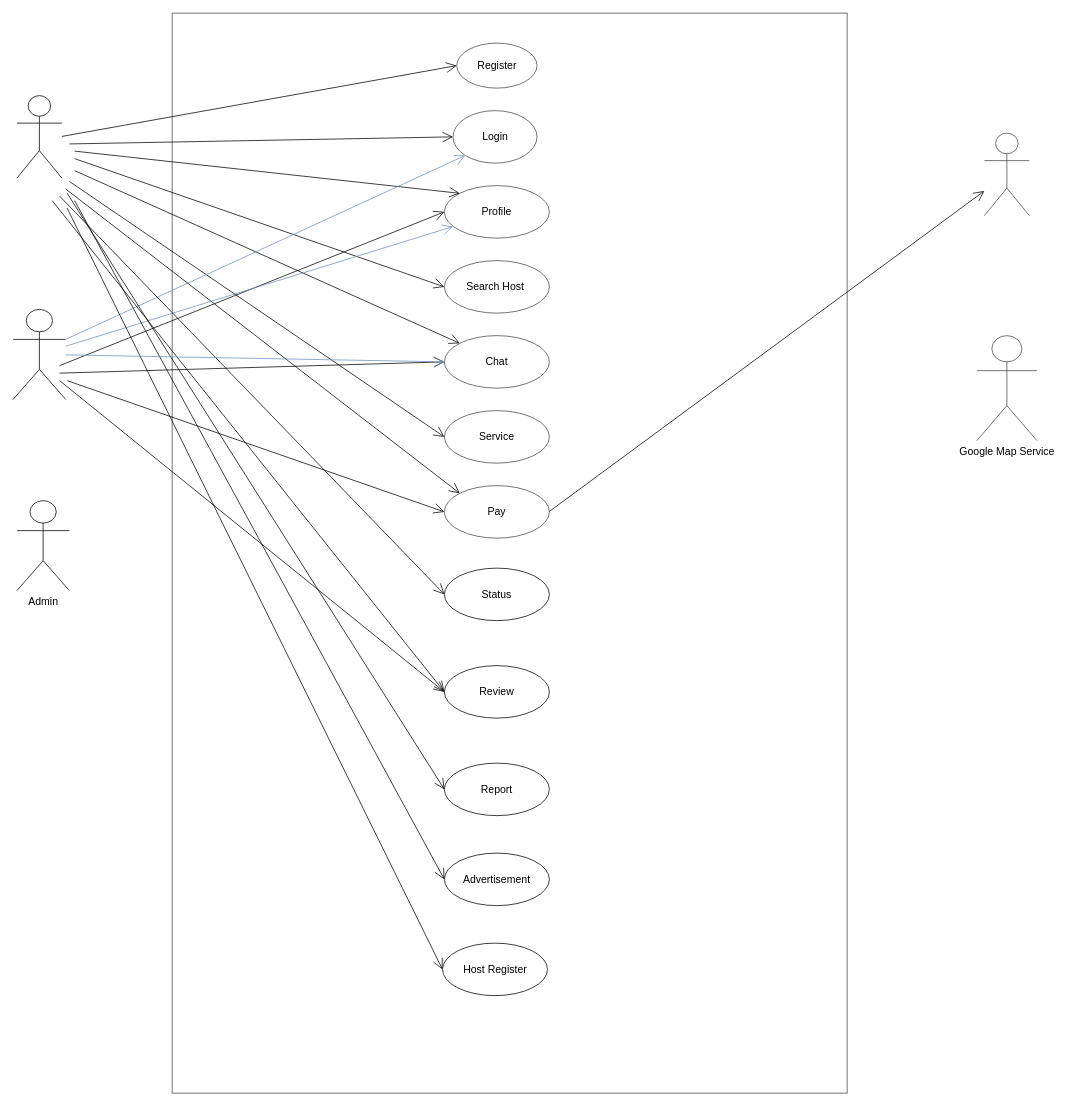
The diagram is 1067 pixels wide and 1106 high, and some of its shapes have lost their labels. Here are the shapes that lost their labels. From the top down, the box of each, then its label:
(16, 95, 62, 178): Customer
(984, 132, 1029, 216): Banking System
(12, 309, 66, 399): Host
